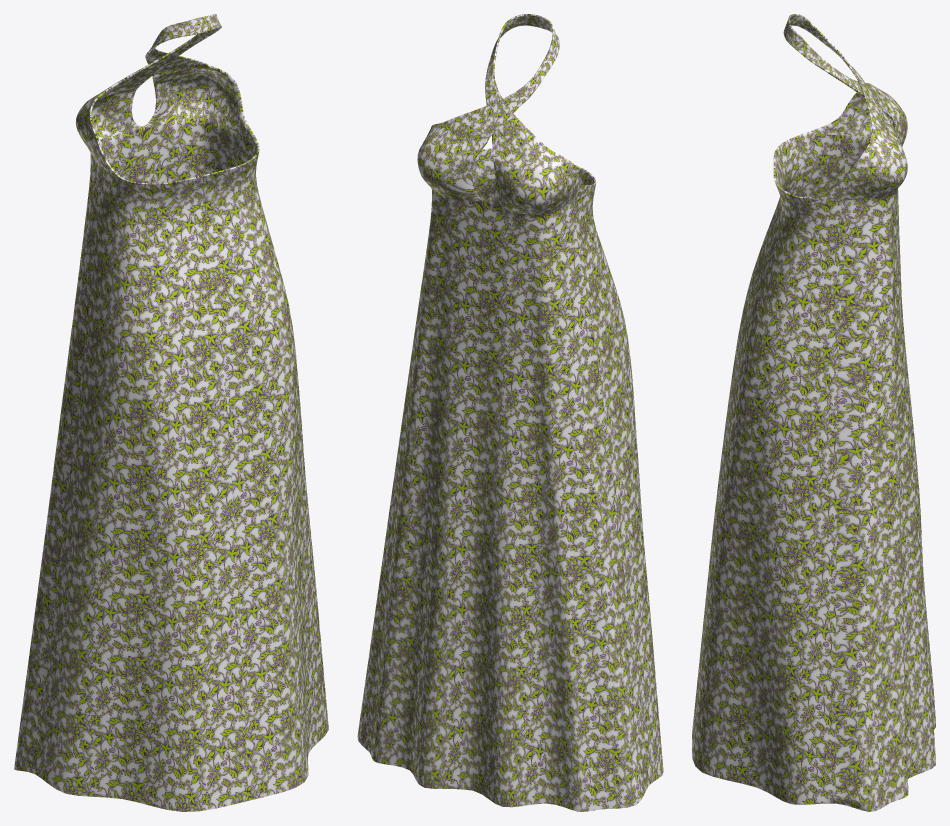
File: Dress.fbx
The picture shows the model from 3 angles, left to right: view 1: azimuth 30°, elevation 25°; view 2: azimuth 150°, elevation 25°; view 3: azimuth 270°, elevation 25°; orthographic projection. The views are drawn at different scales.
Parts seen in each view (by area): view 1: Dress (Outside), Dress (Inside); view 2: Dress (Outside), Dress (Inside); view 3: Dress (Outside), Dress (Inside).
Boxes of the visible parts, x1,y1,x2,y2 form: Dress (Outside): (14, 14, 328, 811); Dress (Inside): (90, 67, 259, 184); Dress (Outside): (357, 14, 663, 811); Dress (Inside): (472, 142, 596, 200); Dress (Outside): (692, 14, 935, 811); Dress (Inside): (773, 92, 895, 197).
Size of the model in its own units: 1.8 by 4.45 by 1.35.
Materials: 1 (1 with a texture image).
